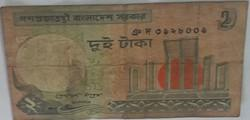2 taka: (1, 7, 241, 119)
